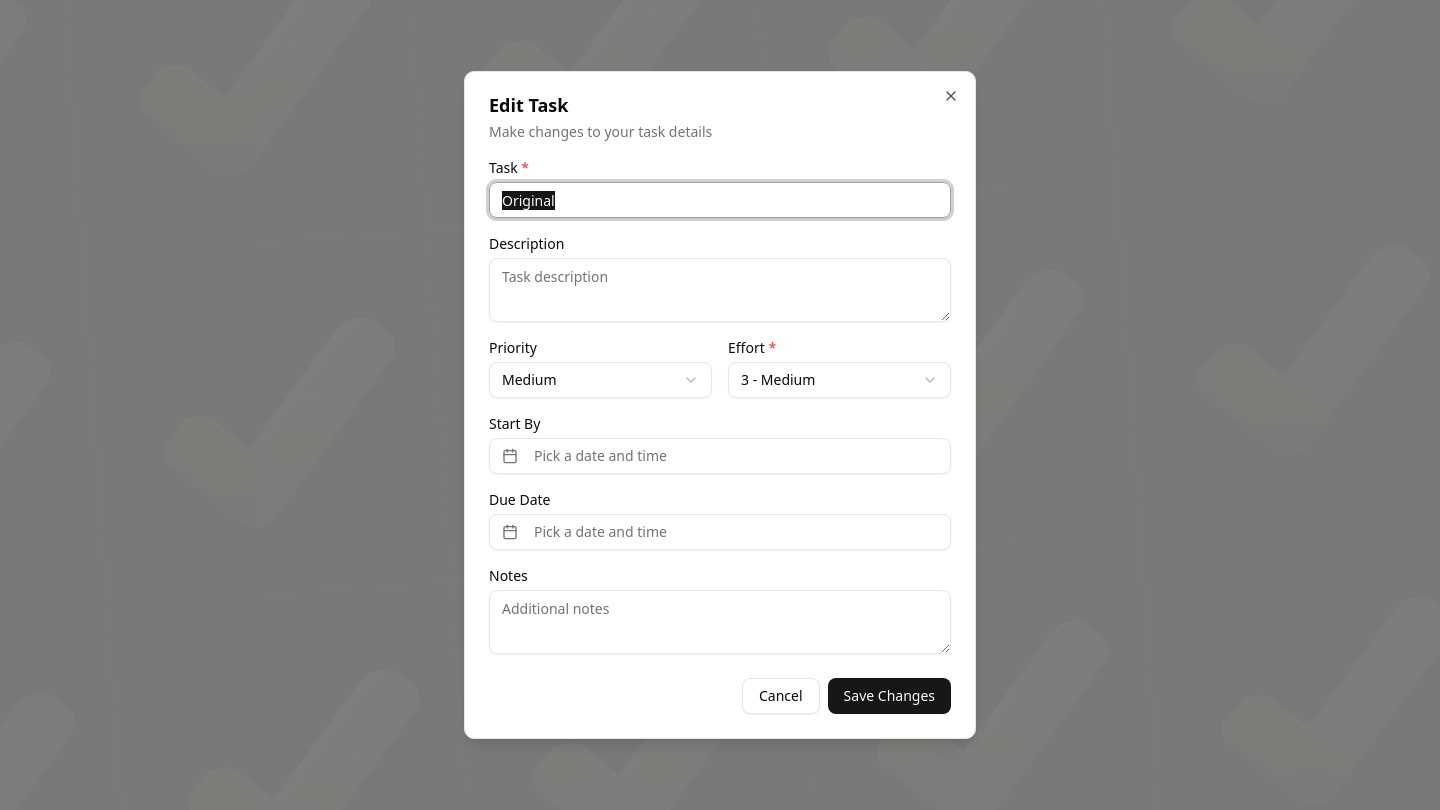
Test case: EditTaskDialog discard guard › Cancel button while dirty shows confirmation
The image size is (1440, 810).
Check: the dialog "Edit Task" is shown, box [464,71,976,739]
// Make dirty
Replace the text in the field with placeholder "Task name" with "Changed Name": (720, 200) [489,182,951,218]
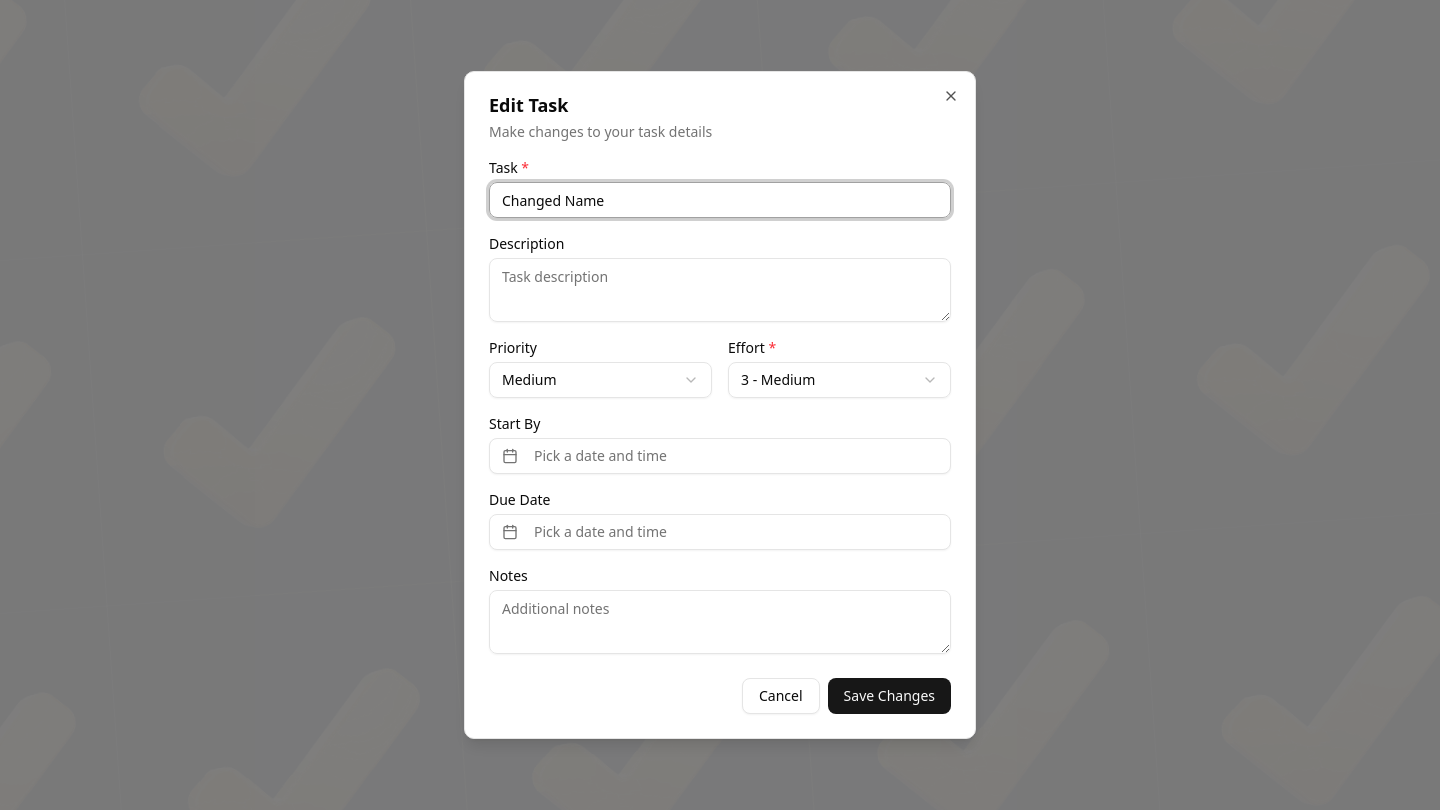
// Click Cancel
Click the button "Cancel": (781, 696) [742,678,820,714]
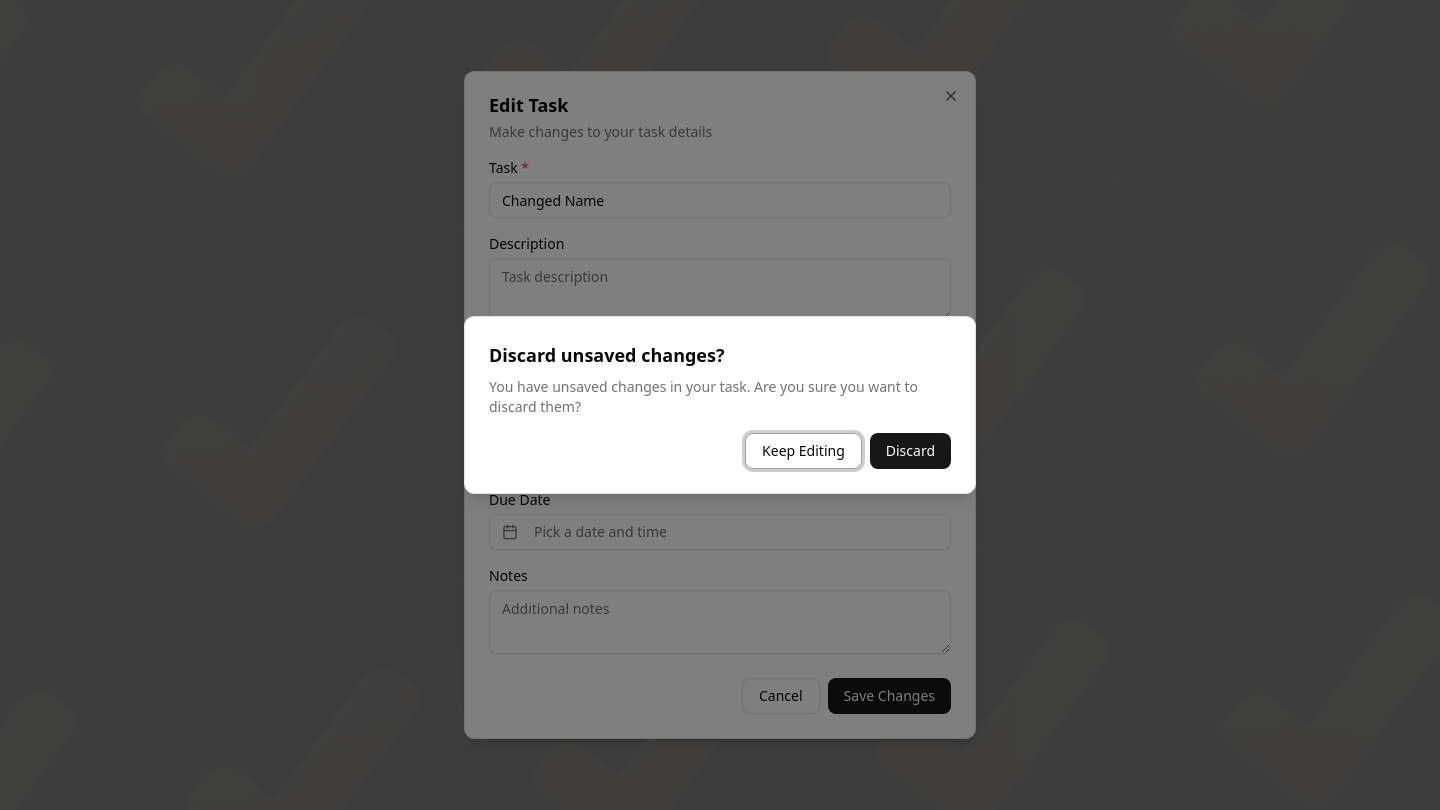
Check: the dialog "Discard unsaved changes" is shown, box [464,316,976,494]
